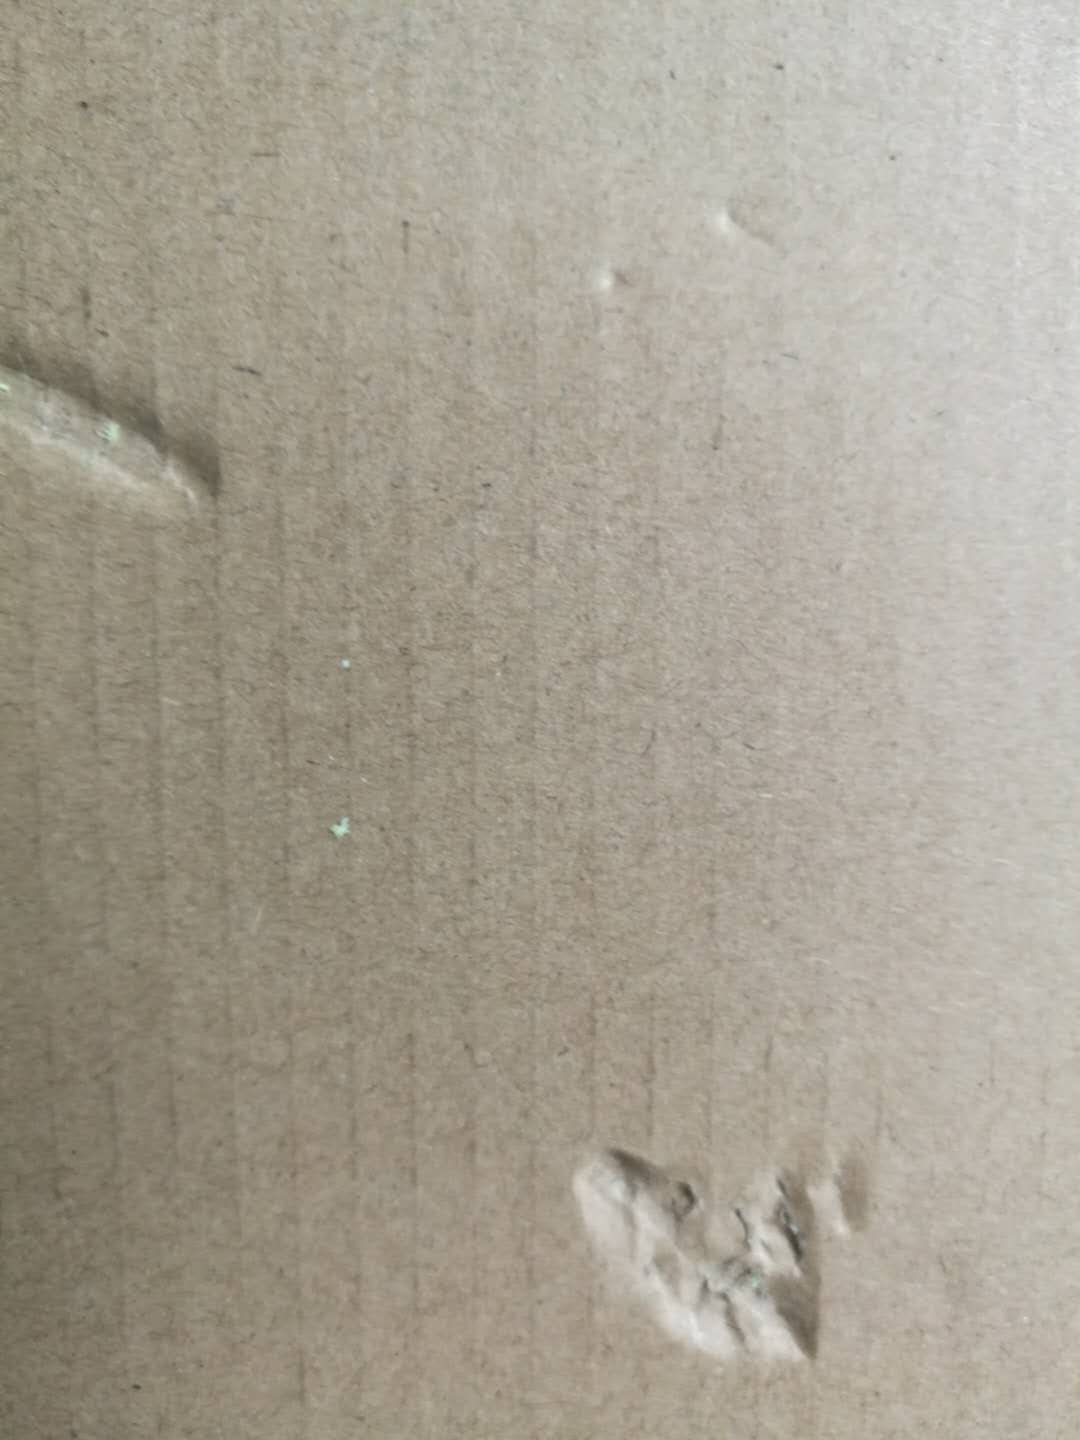defect: (554, 1095, 908, 1408), (1, 293, 263, 573), (694, 183, 800, 281), (579, 247, 652, 313)
